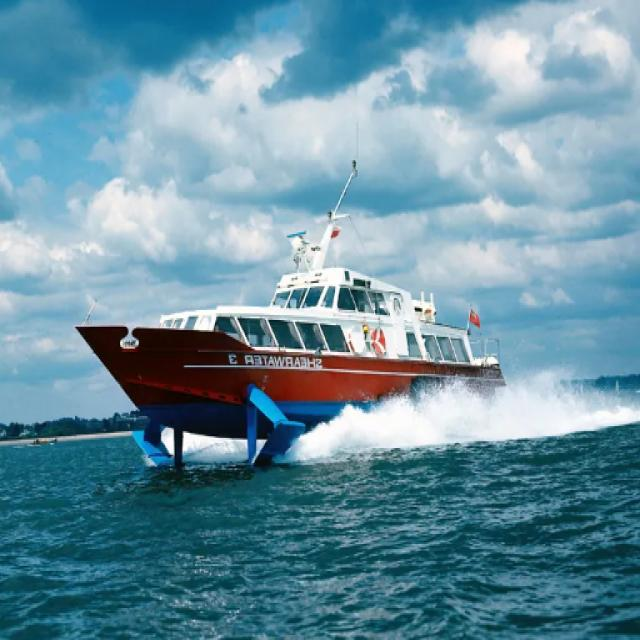houseboat: (65, 180, 522, 491)
